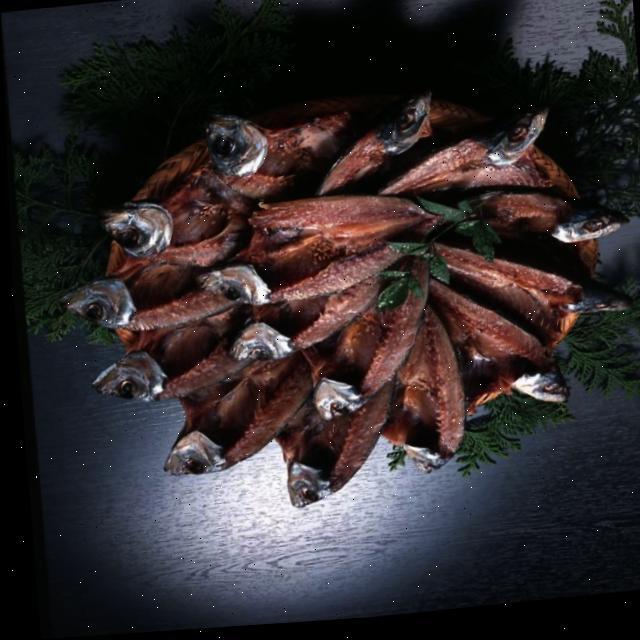熟制海鲜: (39, 77, 640, 539)
